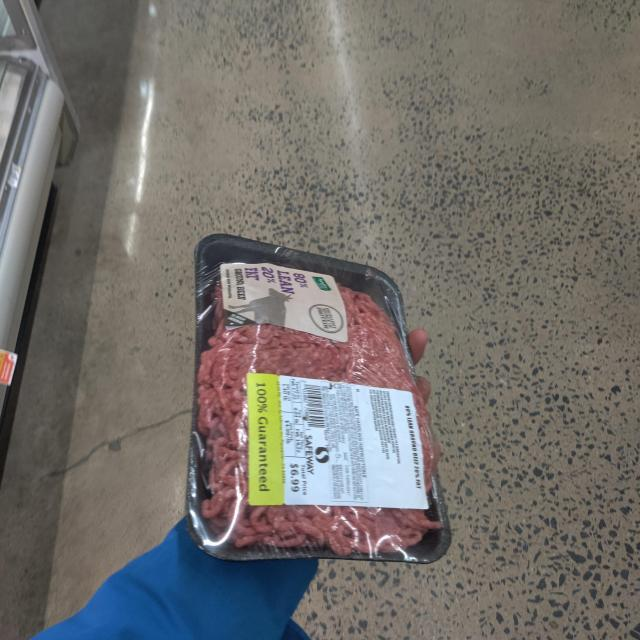Meat: (187, 231, 449, 568)
